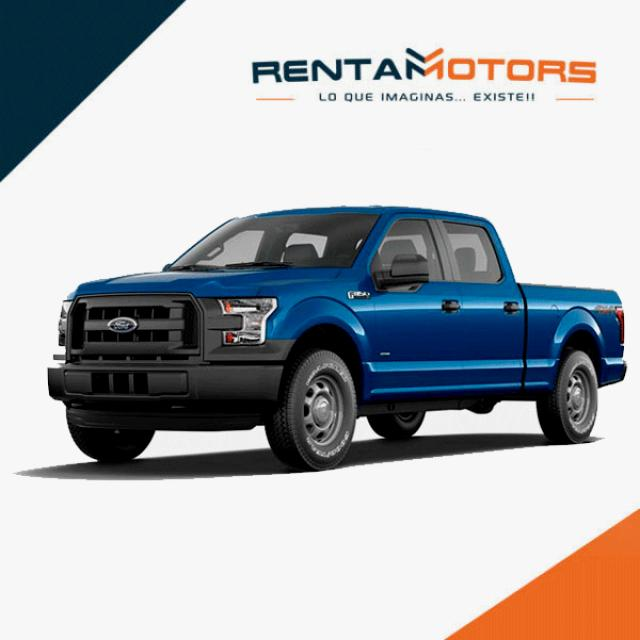CMT: (60, 205, 626, 456)
